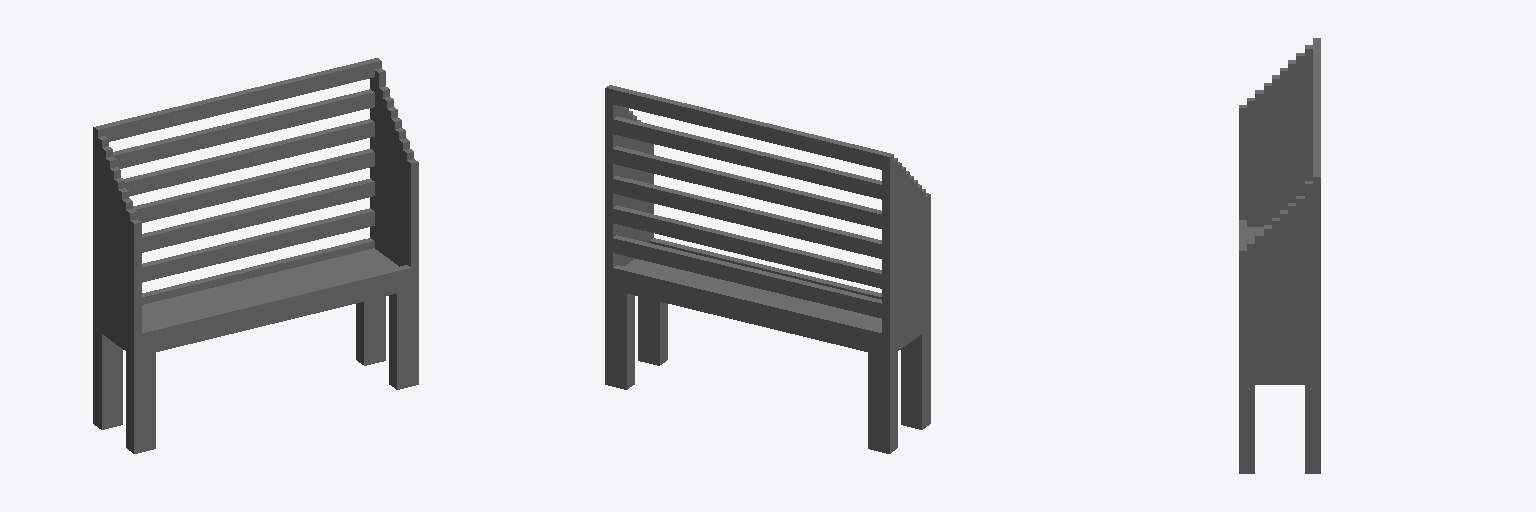
The picture shows the model from 3 angles: view 1: azimuth 30°, elevation 25°; view 2: azimuth 150°, elevation 25°; view 3: azimuth 270°, elevation 25°; orthographic projection.
Parts seen in each view (by area): view 1: object 1; view 2: object 1; view 3: object 1.
Part boxes in pixels (x1,y1,x2,y2): object 1: (93, 58, 418, 453); object 1: (605, 85, 930, 453); object 1: (1239, 38, 1320, 473).
Size of the model in its own units: 4 by 4 by 1.
Materials: 1 (1 with a texture image).